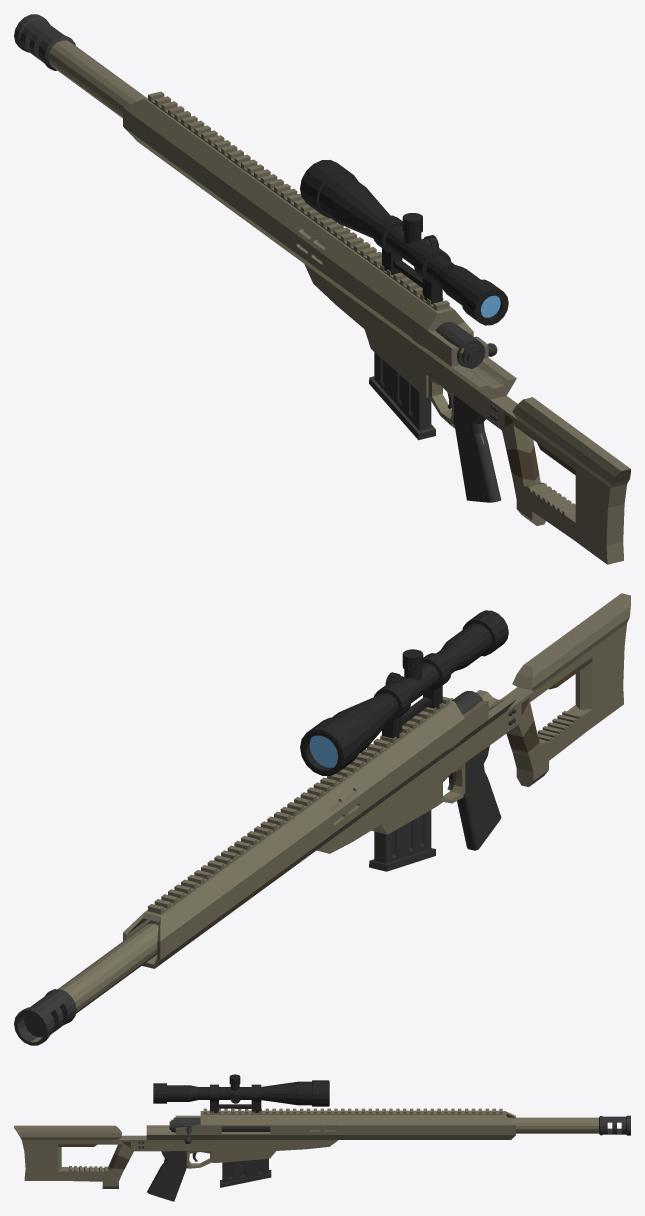
The model's file is SPR-4.fbx.
3 renders of one model, top to bottom at view 1: azimuth 30°, elevation 25°; view 2: azimuth 150°, elevation 25°; view 3: azimuth 270°, elevation 25°, orthographic. The views are drawn at different scales.
Visible parts, largest first — view 1: SPR-4; view 2: SPR-4; view 3: SPR-4.
Part boxes in pixels (x1,y1,x2,y2): SPR-4: [14, 14, 630, 564]; SPR-4: [14, 593, 630, 1045]; SPR-4: [14, 1074, 630, 1201].
Bounding box in the file's own units: 22.37 × 84.81 × 383.
